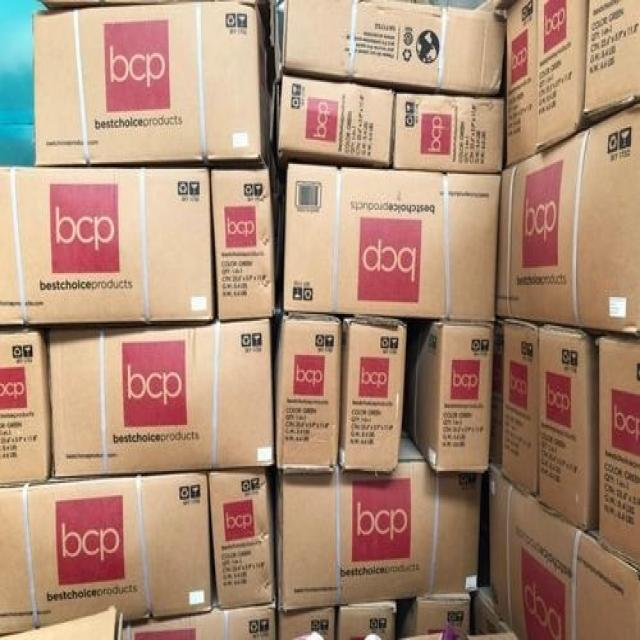Carton: (282, 104, 637, 328), (278, 317, 488, 614), (284, 0, 582, 166), (486, 319, 639, 638), (0, 171, 275, 323), (32, 2, 257, 166), (49, 317, 273, 476), (0, 471, 207, 633), (593, 340, 639, 570), (279, 75, 388, 162), (342, 317, 402, 468), (394, 92, 500, 166)
